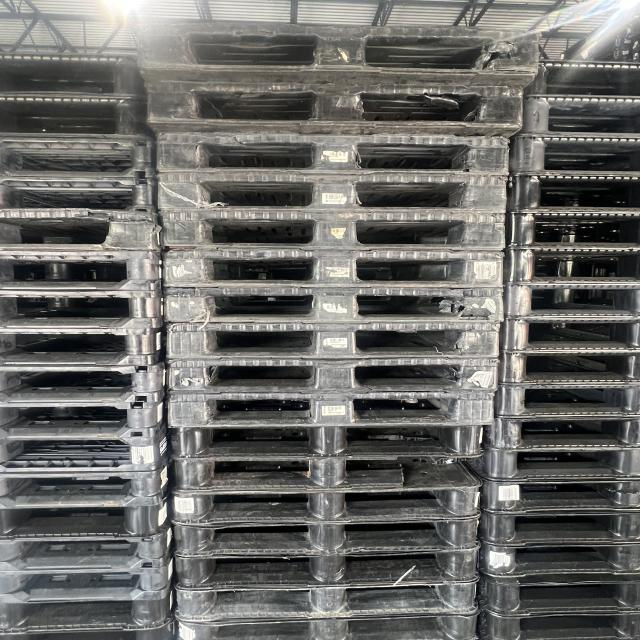igps: (124, 5, 547, 75), (137, 69, 534, 141), (154, 201, 513, 256), (150, 165, 514, 219), (149, 128, 516, 180), (155, 245, 510, 296), (158, 355, 506, 397), (160, 289, 514, 328), (160, 389, 501, 429), (156, 323, 506, 361), (167, 488, 490, 522), (163, 455, 493, 487), (164, 427, 494, 458), (169, 610, 482, 640), (168, 556, 487, 584), (0, 204, 168, 255), (0, 246, 167, 296), (169, 525, 486, 551), (171, 587, 486, 612), (0, 286, 168, 332), (0, 170, 166, 216), (0, 134, 159, 182), (0, 326, 172, 370), (0, 362, 172, 406), (0, 399, 172, 442), (0, 466, 179, 507), (0, 92, 147, 141), (474, 540, 640, 583), (0, 435, 174, 476), (0, 48, 140, 98), (0, 504, 179, 541), (0, 535, 180, 571), (501, 134, 640, 178), (499, 208, 640, 251), (497, 247, 640, 289), (476, 582, 640, 616), (0, 598, 179, 629), (0, 570, 183, 600), (520, 57, 640, 102), (472, 512, 640, 544), (517, 95, 640, 138), (501, 284, 640, 322), (0, 611, 182, 640), (489, 383, 640, 417), (503, 177, 640, 214), (480, 420, 640, 451), (530, 23, 640, 68), (477, 482, 640, 512), (478, 450, 640, 480), (494, 351, 640, 383), (496, 320, 640, 352), (477, 613, 640, 640)
